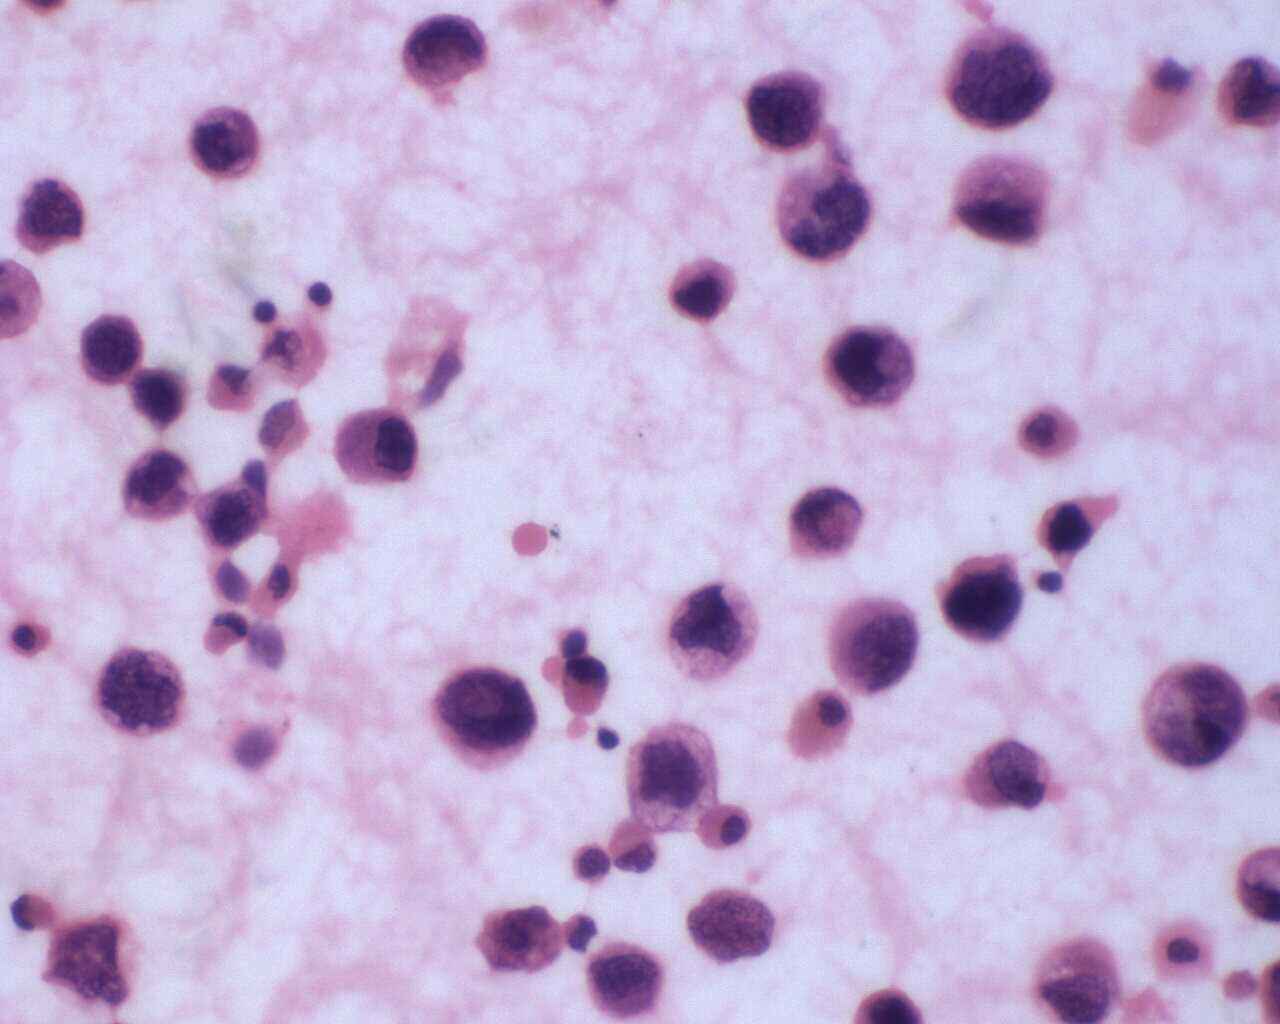ab: (1134, 655, 1250, 782), (937, 25, 1060, 137), (427, 661, 541, 781), (816, 594, 931, 699), (657, 583, 767, 686), (393, 5, 497, 100), (934, 548, 1028, 650), (824, 325, 924, 419), (326, 403, 430, 492), (739, 67, 832, 161), (584, 931, 671, 1022), (10, 170, 86, 260), (119, 442, 199, 527), (71, 310, 154, 388), (185, 102, 263, 183), (660, 252, 739, 327)
meso: (695, 801, 755, 852)
